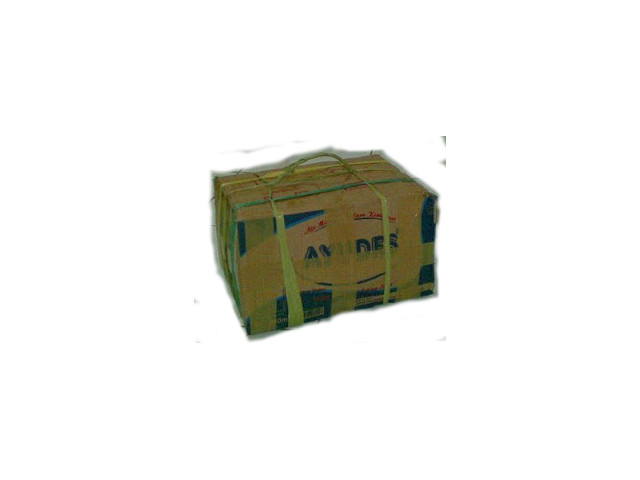cardboard: (214, 155, 433, 331)
